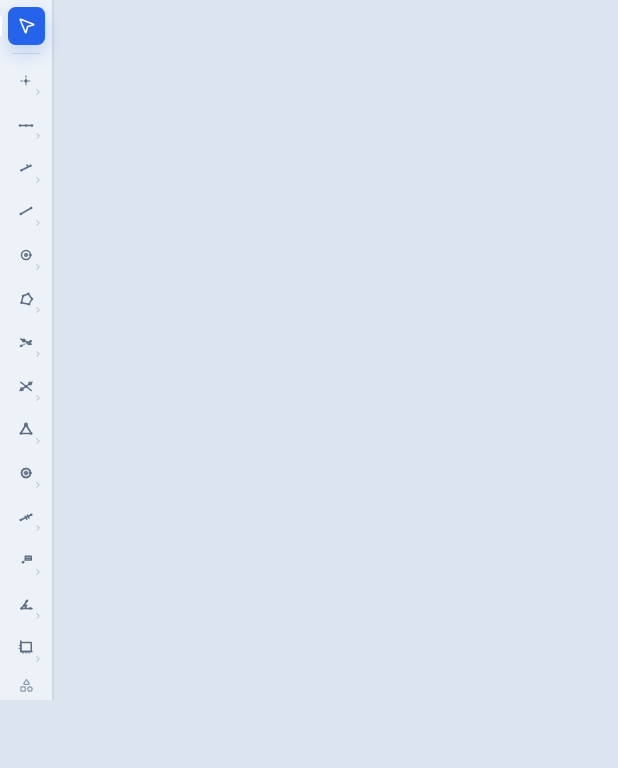
Test: Toolbar groups › opens a group and selects a tool variant
This screenshot has width=618, height=768.
Click the button named "Points tools" at (26, 81), box [8,62,45,99]
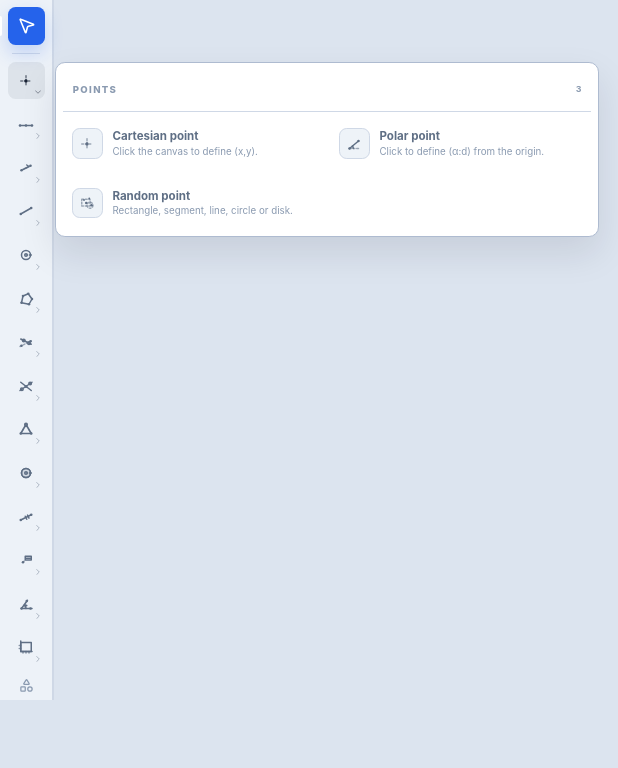
Expected: the menu "Points" is shown, [55,62,599,237]
Click the menu item "Polar point Click to define (α:d) from the origin." at (461, 144), box [330,117,591,170]
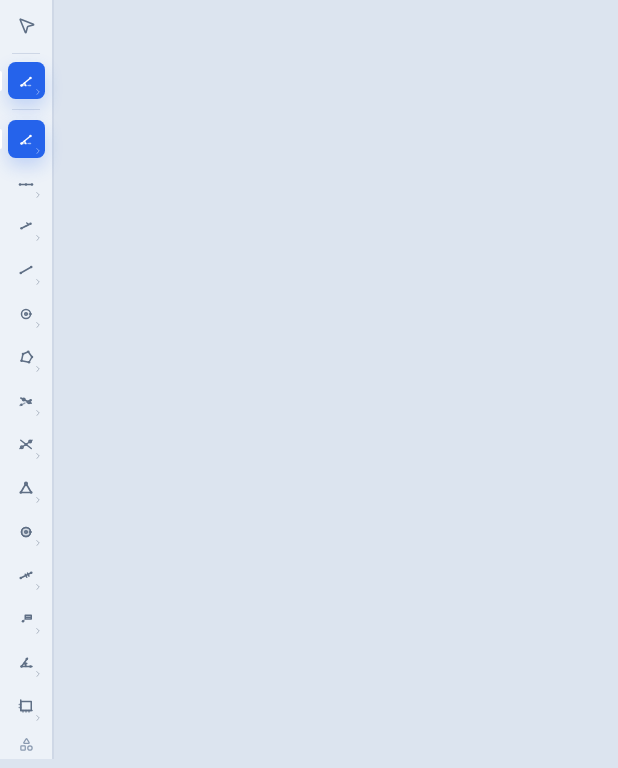
Expected: the text "Points" is gone
